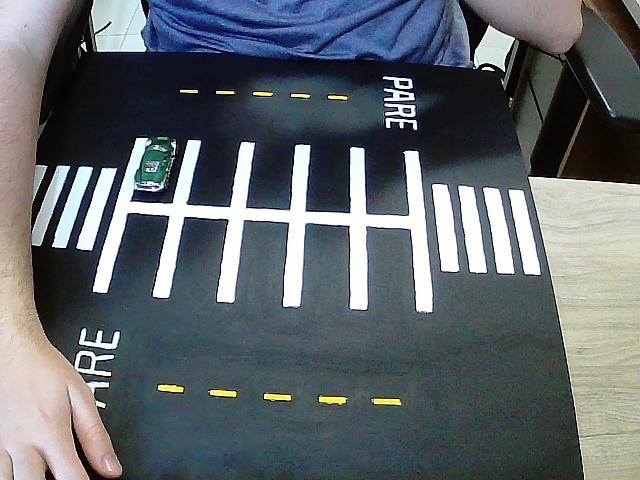Carro: (135, 137, 176, 193)
